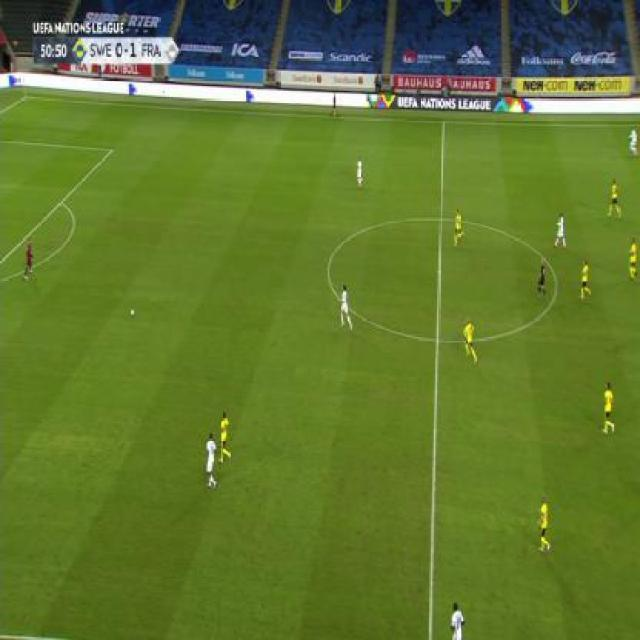ball: (130, 307, 135, 318)
player: (536, 494, 553, 556), (600, 380, 617, 436), (217, 411, 233, 465), (204, 432, 218, 491), (337, 283, 353, 331), (448, 600, 467, 639), (462, 316, 478, 362), (579, 259, 593, 299), (553, 212, 567, 251), (607, 178, 621, 217), (626, 236, 637, 281), (453, 208, 466, 244), (536, 259, 547, 301), (24, 239, 35, 279), (355, 155, 363, 189), (628, 127, 637, 155), (331, 92, 339, 117)
